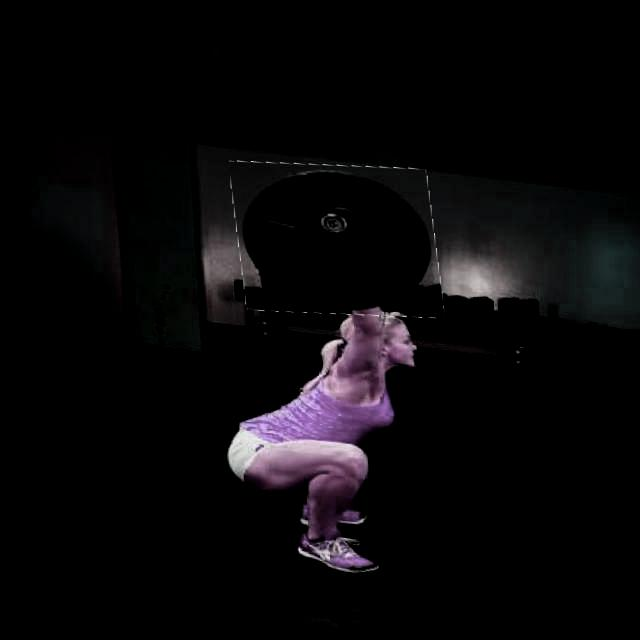barbell: (230, 146, 440, 320)
